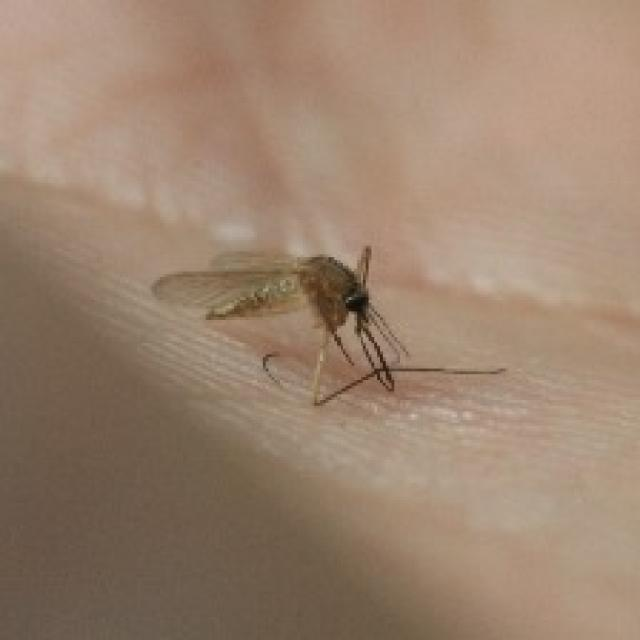culex: (108, 217, 547, 442)
